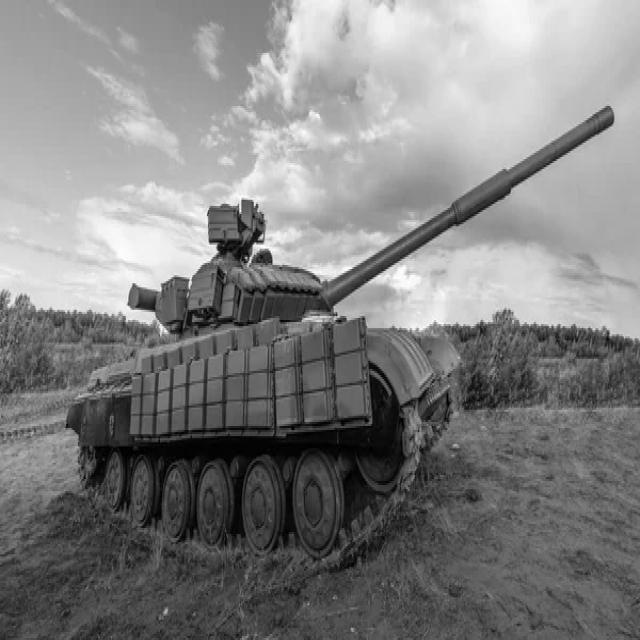Tank: (73, 104, 618, 566)
